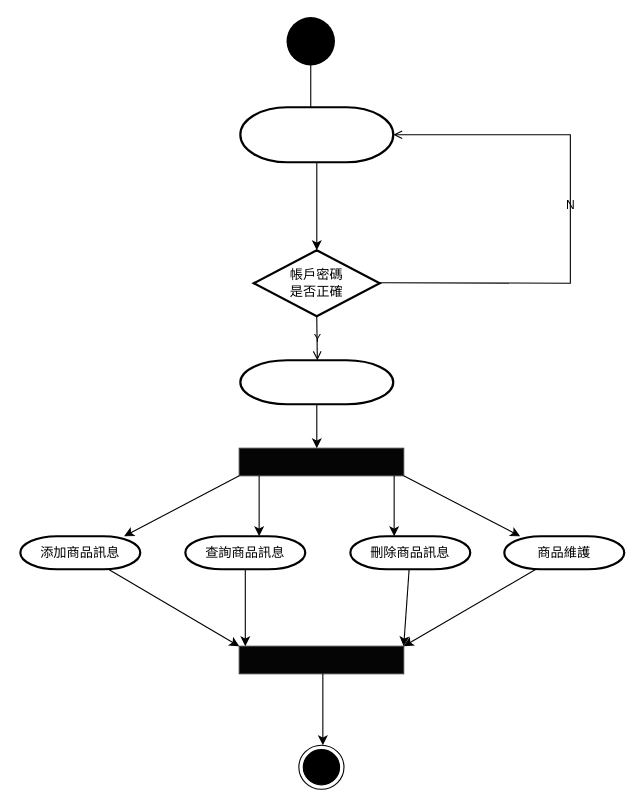
Some shapes in this 644 by 809 pixel diagram are drawn without their labels. Each missing label, with the centre of its shape:
"商品管理" goes at [316,382].
"管理員登陸" goes at [316,134].
